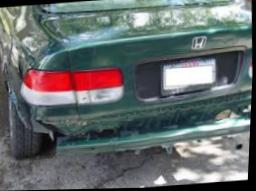Bumper: (22, 98, 252, 157)
